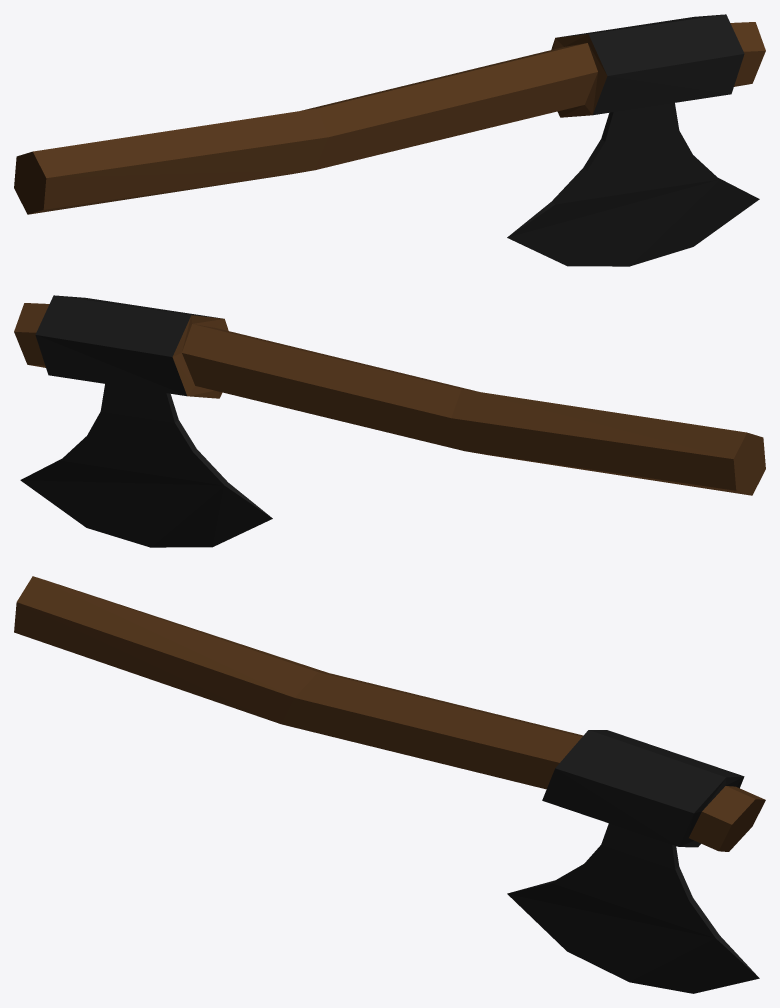
File: axe.FBX
3 renders of one model, top to bottom at view 1: azimuth 30°, elevation 25°; view 2: azimuth 150°, elevation 25°; view 3: azimuth 330°, elevation 25°, orthographic.
Visible parts, largest first — view 1: axe; view 2: axe; view 3: axe.
Boxes of the visible parts, box(x1,y1,x2,y2) form: axe: box(14, 14, 765, 266); axe: box(14, 295, 765, 547); axe: box(14, 576, 765, 993).
Bounding box in the file's own units: 51.73 × 17.59 × 6.4.
